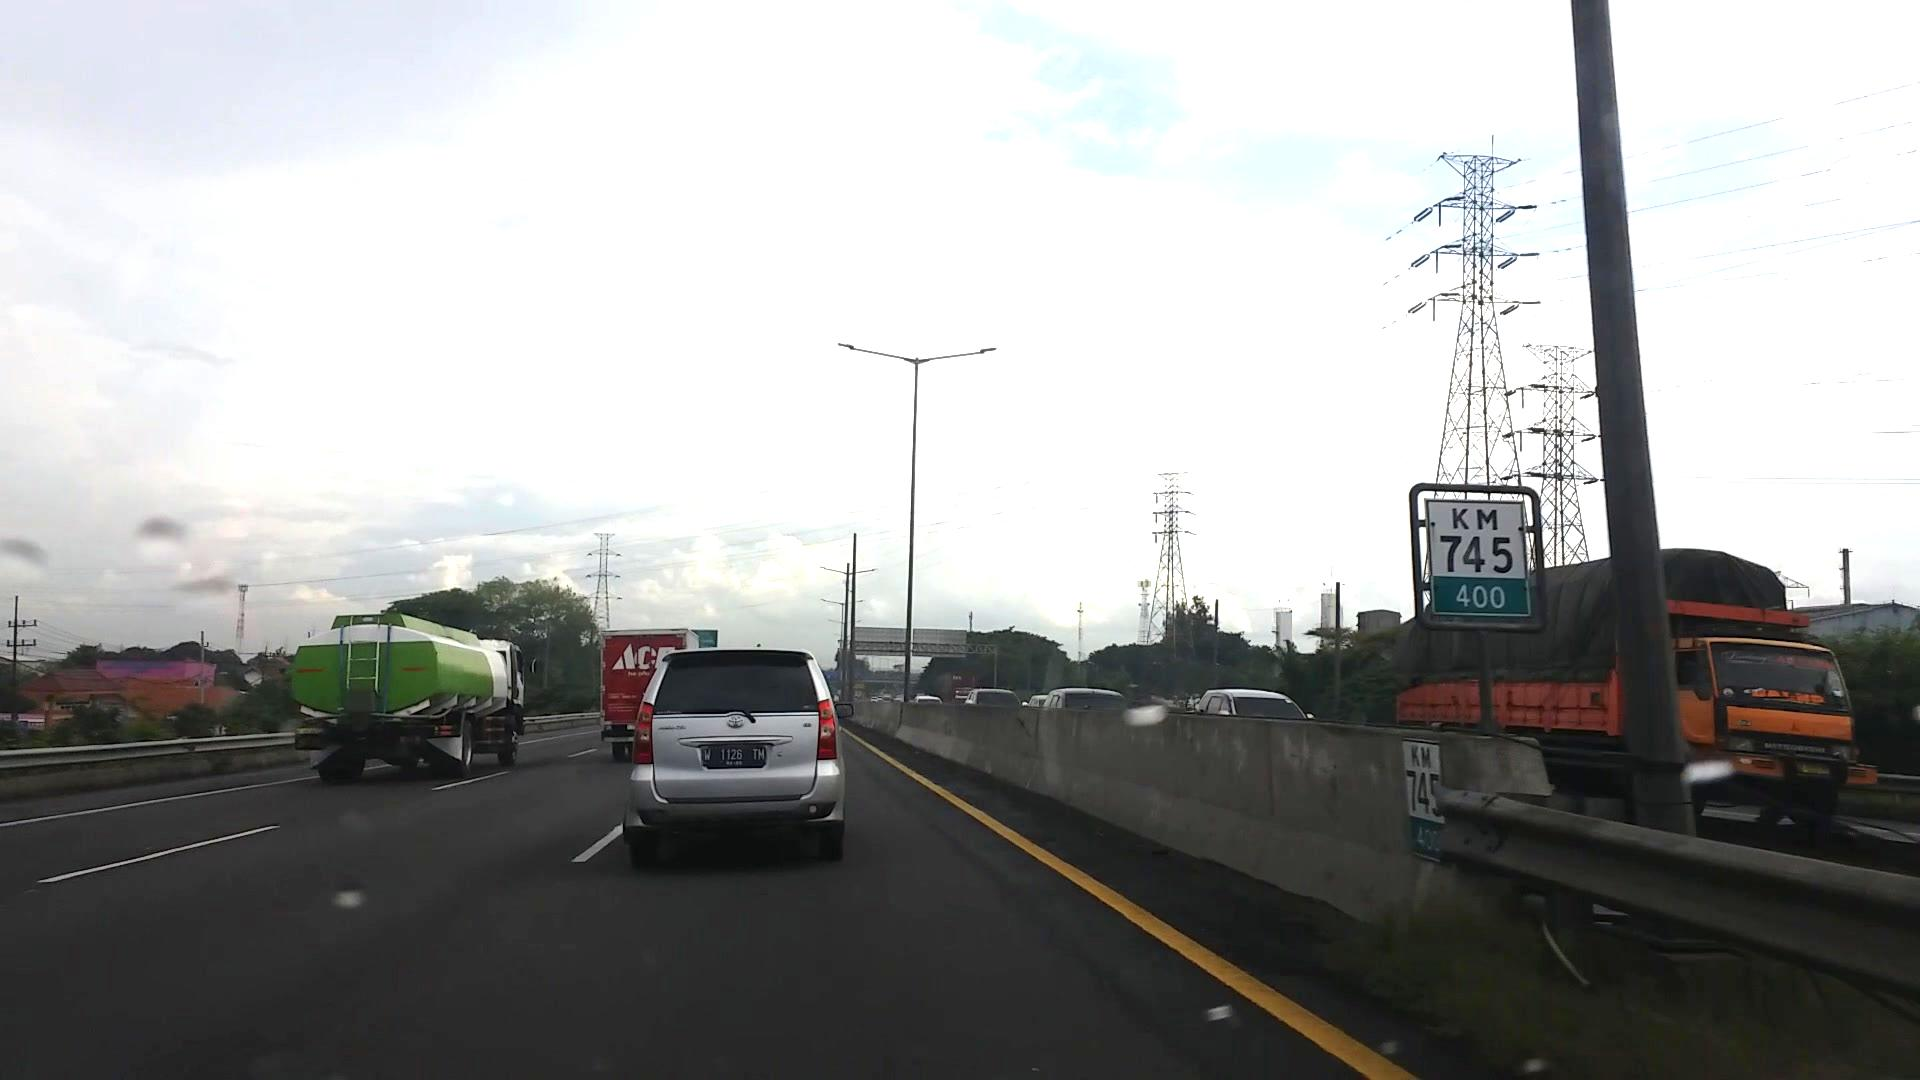plate_positive: (702, 744, 767, 767)
